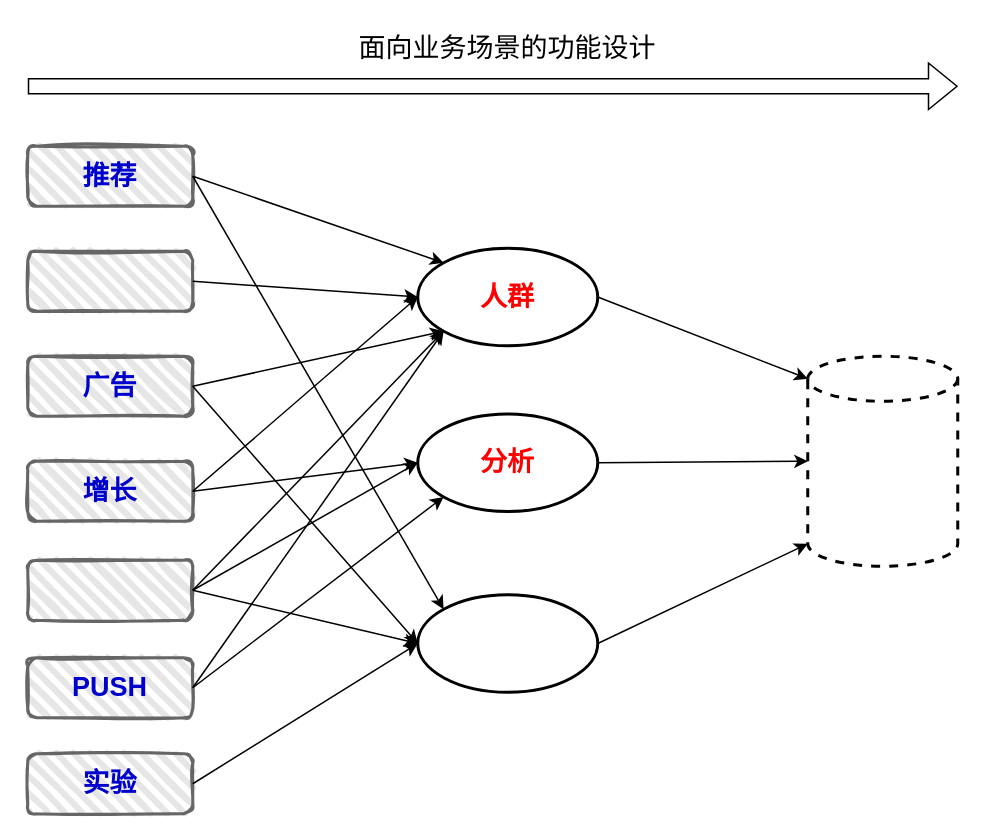
This 984x840 diagram has some shape labels left out. Each missing label, with the centre of its shape:
"定向" goes at point (110, 589).
"搜索" goes at point (110, 280).
"服务" goes at point (507, 642).
"画像" goes at point (882, 460).
